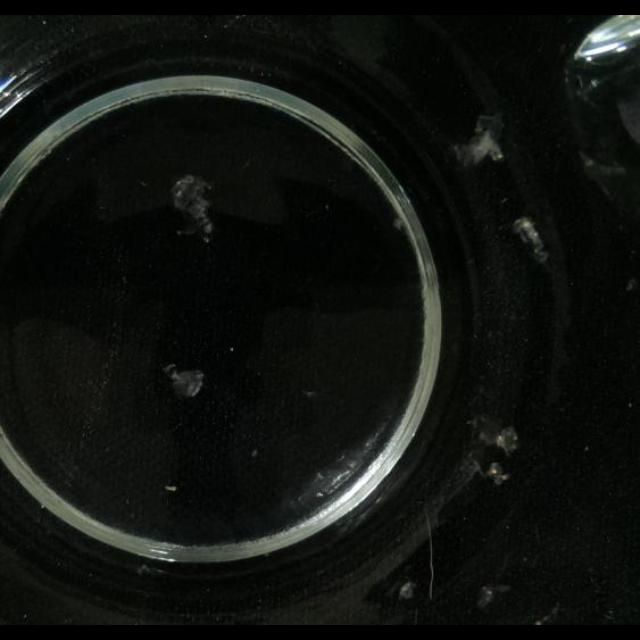Fibre: (474, 417, 518, 457), (533, 604, 561, 624), (392, 214, 408, 232), (625, 277, 637, 291)
Fragment: (170, 174, 216, 240), (454, 114, 504, 168), (512, 216, 548, 262), (164, 363, 206, 399)
microbeads: (316, 492, 324, 498)
